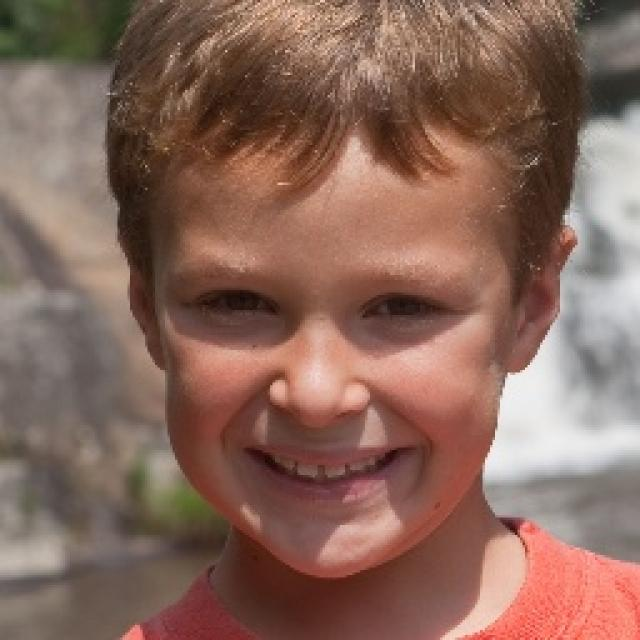earlobe: (506, 222, 576, 373), (113, 219, 168, 375)
